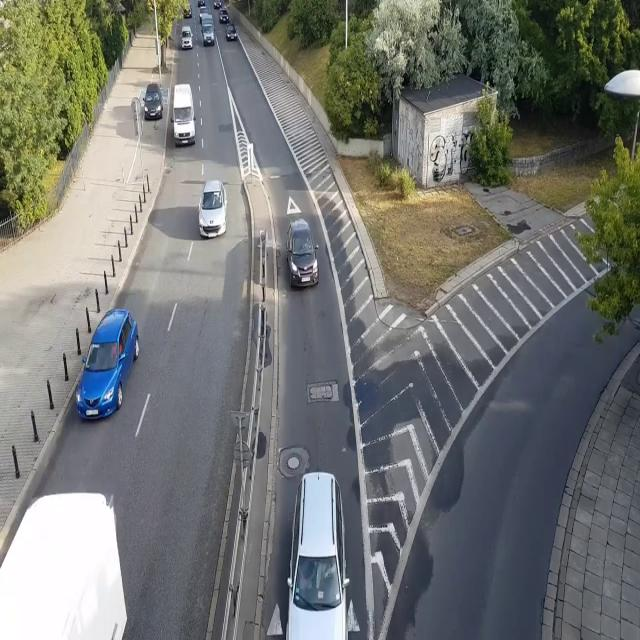car: (286, 471, 350, 640), (76, 306, 140, 420), (285, 219, 320, 289), (197, 178, 228, 239), (142, 83, 164, 121), (180, 26, 193, 49), (225, 22, 238, 42), (219, 8, 229, 25), (199, 6, 209, 23), (183, 4, 192, 19), (213, 0, 222, 9), (197, 0, 205, 8)
truck: (0, 489, 128, 640), (201, 14, 215, 46)
van: (170, 83, 196, 148)
